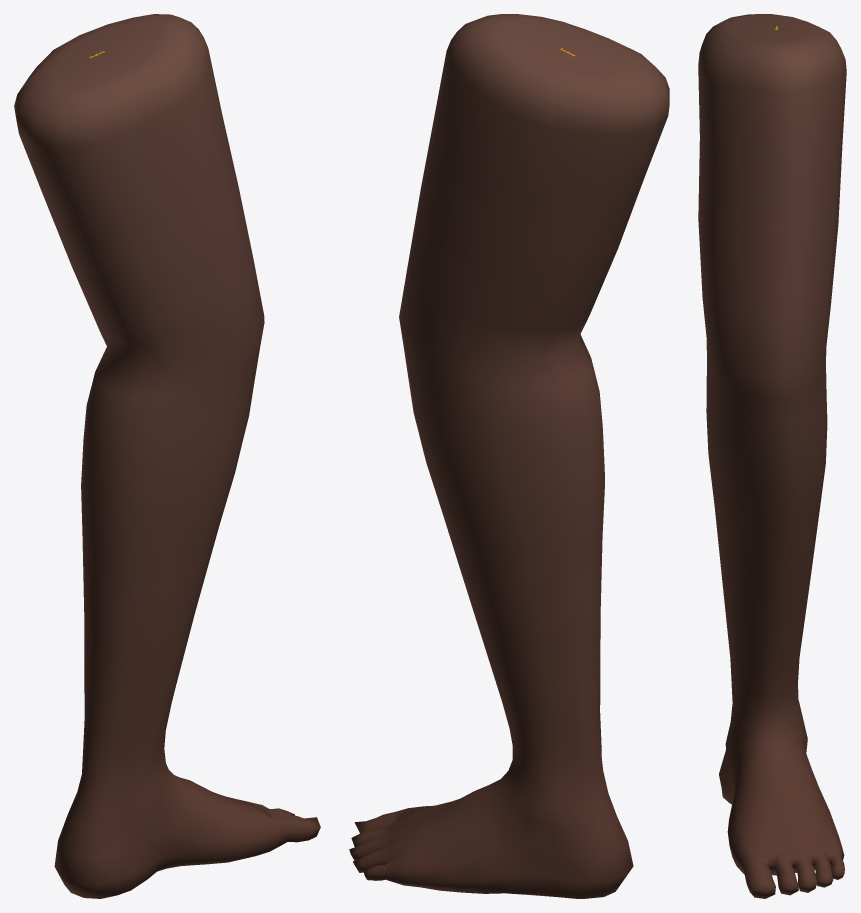
File: leg.glb
3 views of the same model, side by side, from view 1: azimuth 30°, elevation 25°; view 2: azimuth 150°, elevation 25°; view 3: azimuth 270°, elevation 25° (orthographic). The views are drawn at different scales.
Visible parts, largest first — view 1: Circle.272; view 2: Circle.272; view 3: Circle.272.
Boxes of the visible parts, x1,y1,x2,y2 form: Circle.272: (14,14,320,898); Circle.272: (349,14,669,898); Circle.272: (698,14,846,898).
Size of the model in its own units: 0.6958 by 1.89 by 0.3204.
Materials: 2 (2 with a texture image).
